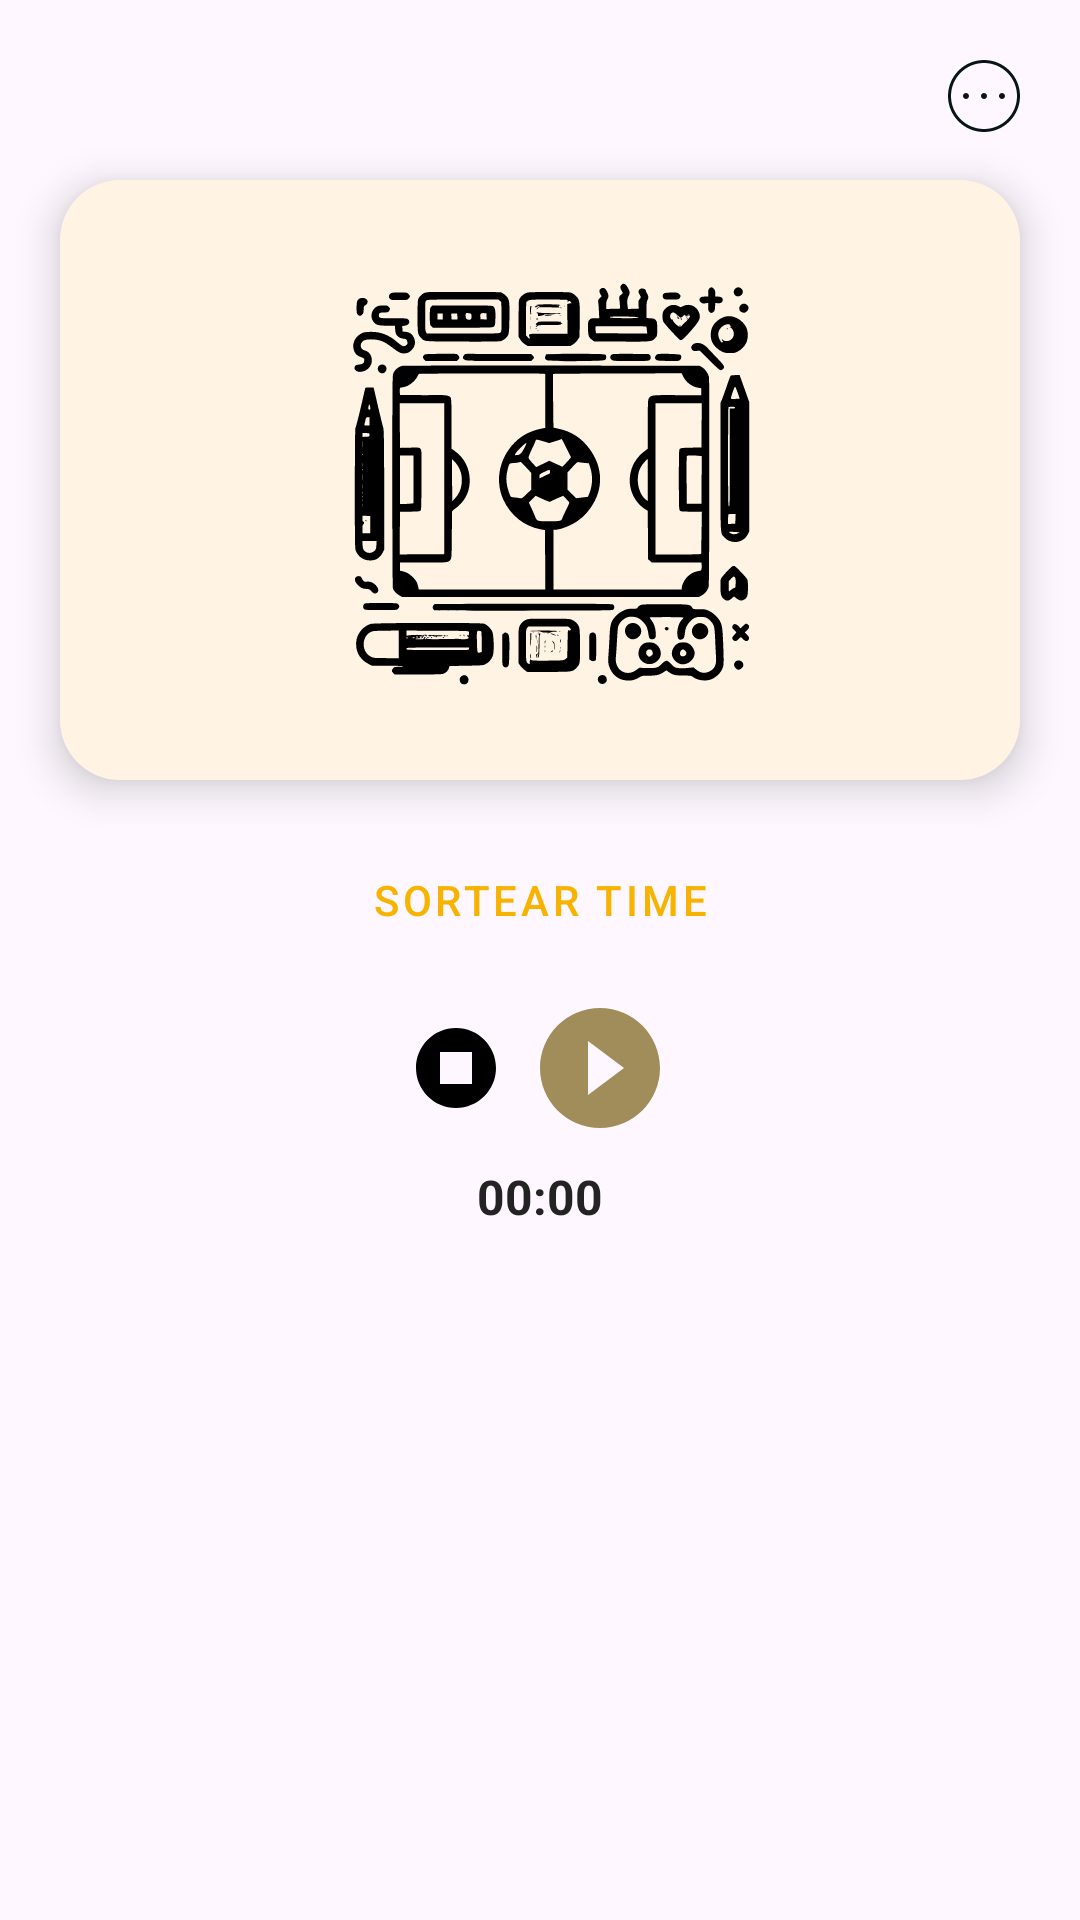

Named icons in this screenshot (1080px×1920px) and their bounding boxes, (x1, y1, x2, y2):
cancelar: (416, 1028, 496, 1108)
configrações: (948, 60, 1020, 132)
inicar: (540, 1008, 660, 1128)
